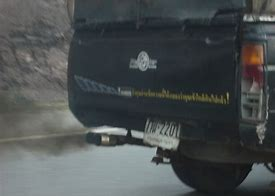smoke: (1, 92, 97, 160)
